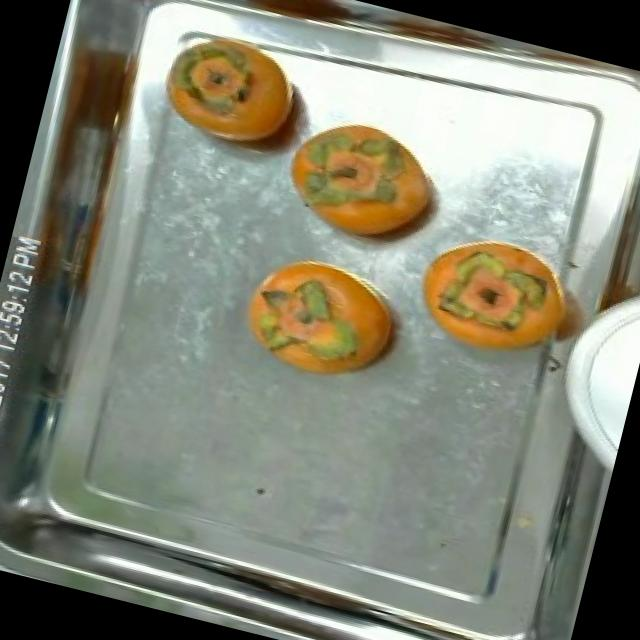Fruit: (392, 206, 594, 382), (221, 235, 425, 402), (262, 99, 464, 266), (138, 22, 332, 178)
